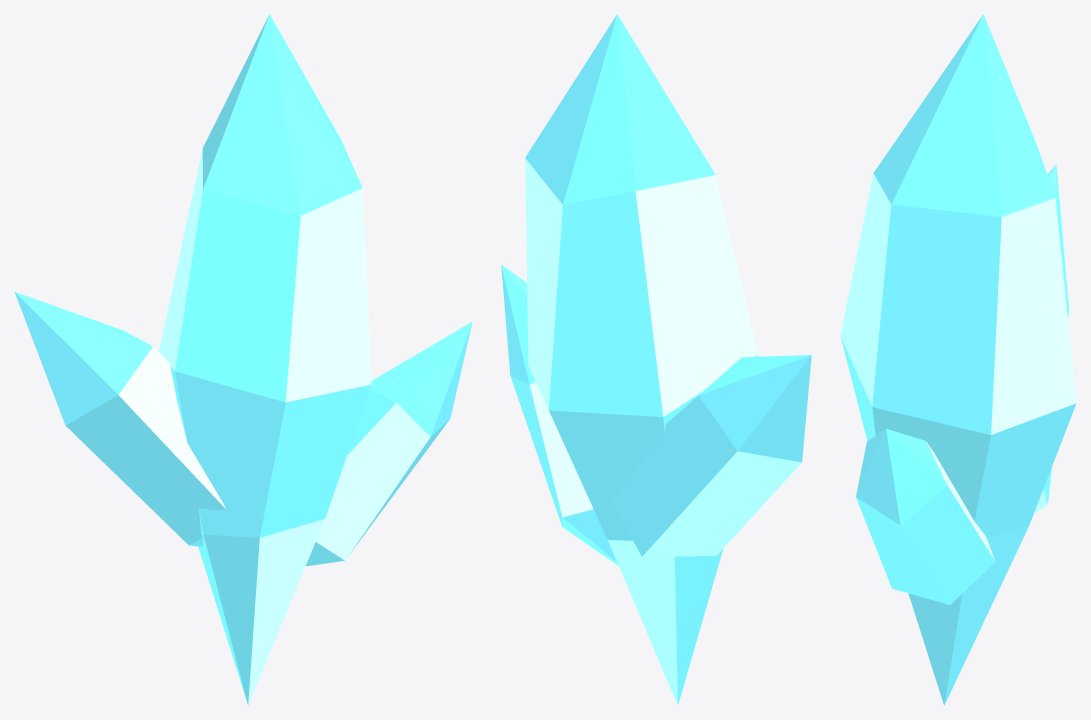
The model's file is shard.glb.
3 views of the same model, side by side, from view 1: azimuth 30°, elevation 25°; view 2: azimuth 150°, elevation 25°; view 3: azimuth 270°, elevation 25° (orthographic). The views are drawn at different scales.
Visible parts, largest first — view 1: SHARD; view 2: SHARD; view 3: SHARD.
Boxes of the visible parts, x1=… form: SHARD: x1=14, y1=14, x2=472, y2=705; SHARD: x1=501, y1=14, x2=811, y2=705; SHARD: x1=840, y1=14, x2=1076, y2=705.
Size of the model in its own units: 0.3544 by 0.5985 by 0.1797.
